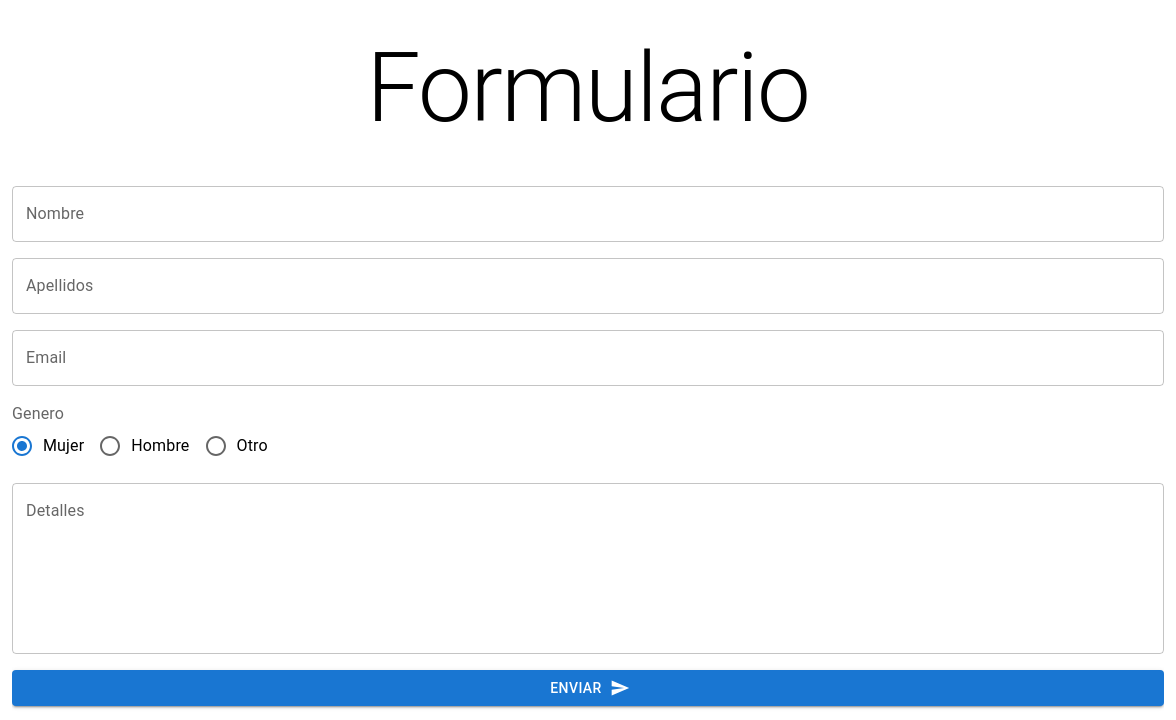
Test: APP form component › Ckeck Error Message
Click the button "Enviar": (588, 688) [12,670,1164,706]
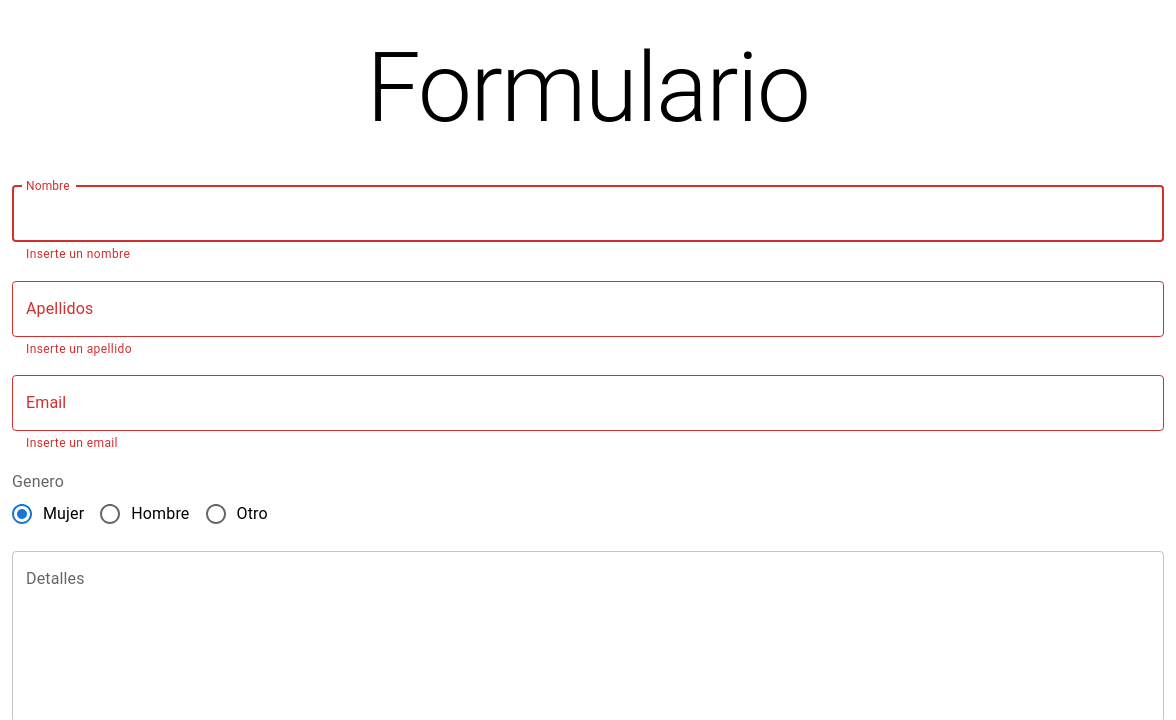
Check: the text "Inserte un nombre" is shown, box [26,247,130,261]
